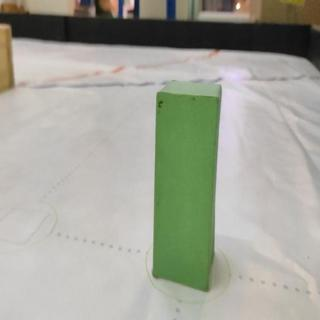greenbox: (152, 78, 225, 295)
